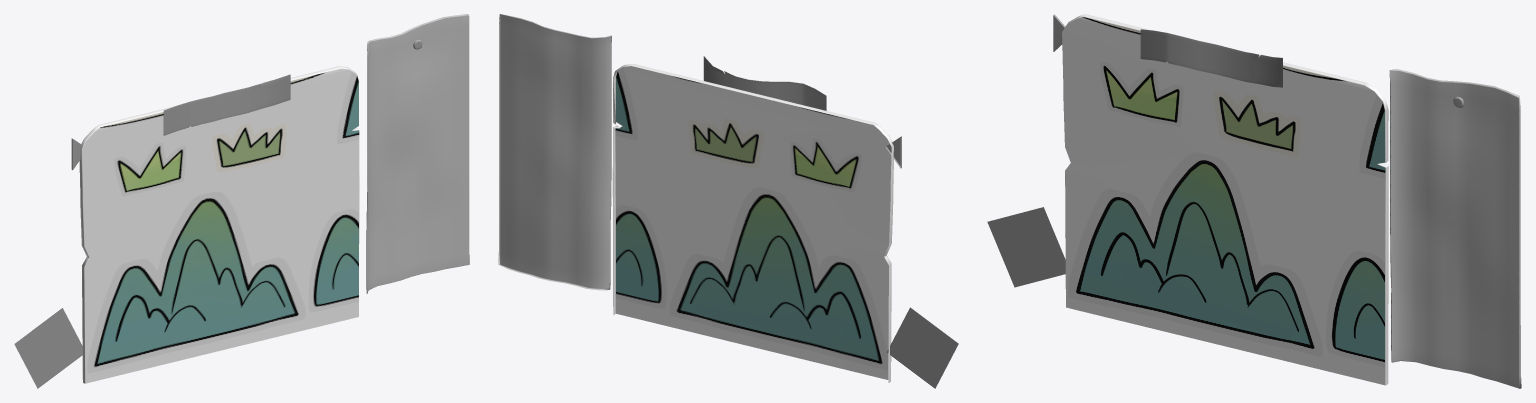
File: ban.fbx
The picture shows the model from 3 angles, left to right: view 1: azimuth 30°, elevation 25°; view 2: azimuth 150°, elevation 25°; view 3: azimuth 330°, elevation 25°; orthographic projection. The views are drawn at different scales.
Parts seen in each view (by area): view 1: Ban, BrownPaper, TItlePaper, paper; view 2: Ban, BrownPaper, paper, TItlePaper; view 3: Ban, BrownPaper, TItlePaper, paper.
Boxes of the visible parts, <box> form: Ban: <box>79,66,359,383</box>; BrownPaper: <box>366,14,469,293</box>; TItlePaper: <box>163,74,290,135</box>; paper: <box>14,308,82,388</box>; Ban: <box>612,64,893,382</box>; BrownPaper: <box>498,14,611,290</box>; paper: <box>886,307,958,388</box>; TItlePaper: <box>703,56,826,110</box>; Ban: <box>1062,14,1388,385</box>; BrownPaper: <box>1389,69,1521,388</box>; TItlePaper: <box>1140,29,1282,87</box>; paper: <box>987,207,1065,287</box>.
Bounding box in the file's own units: 2047 × 1178 × 121.
